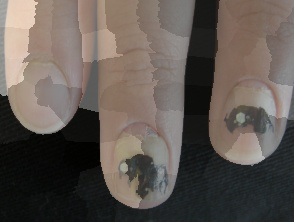SJS-TEN: (110, 124, 183, 210), (207, 81, 287, 157)
